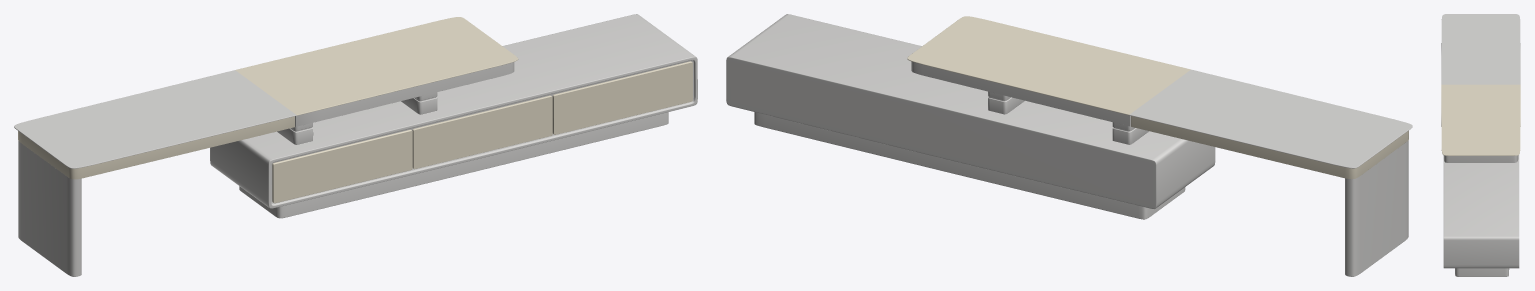
The picture shows the model from 3 angles, left to right: view 1: azimuth 30°, elevation 25°; view 2: azimuth 150°, elevation 25°; view 3: azimuth 270°, elevation 25°; orthographic projection. The views are drawn at different scales.
Parts seen in each view (by area): view 1: Box001, Object_Standardmaterial_0, Object001_Standardmaterial_0, Box003, Box004, Box013, Box009, Box008; view 2: Box001, Object_Standardmaterial_0, Object001_Standardmaterial_0, Box003, Box004, Box013, Box009, Box008; view 3: Box001, Object001_Standardmaterial_0, Object_Standardmaterial_0, Box004, Box013.
Boxes of the visible parts, bbox=[...] form: Box001: bbox=[210, 14, 697, 208]; Object_Standardmaterial_0: bbox=[14, 70, 296, 168]; Object001_Standardmaterial_0: bbox=[235, 17, 518, 115]; Box003: bbox=[18, 141, 81, 276]; Box004: bbox=[18, 62, 514, 179]; Box013: bbox=[239, 112, 668, 218]; Box009: bbox=[401, 92, 437, 114]; Box008: bbox=[277, 123, 313, 144]; Box001: bbox=[726, 14, 1215, 209]; Object_Standardmaterial_0: bbox=[1129, 69, 1412, 168]; Object001_Standardmaterial_0: bbox=[907, 16, 1190, 115]; Box003: bbox=[1345, 140, 1408, 276]; Box004: bbox=[911, 61, 1408, 179]; Box013: bbox=[754, 112, 1185, 219]; Box009: bbox=[988, 91, 1024, 114]; Box008: bbox=[1112, 122, 1148, 144]; Box001: bbox=[1443, 155, 1519, 268]; Object001_Standardmaterial_0: bbox=[1441, 84, 1520, 155]; Object_Standardmaterial_0: bbox=[1441, 14, 1520, 84]; Box004: bbox=[1443, 155, 1518, 162]; Box013: bbox=[1455, 268, 1509, 276].
Bounding box in the file's own units: 2.51 × 0.4223 × 0.4264.
